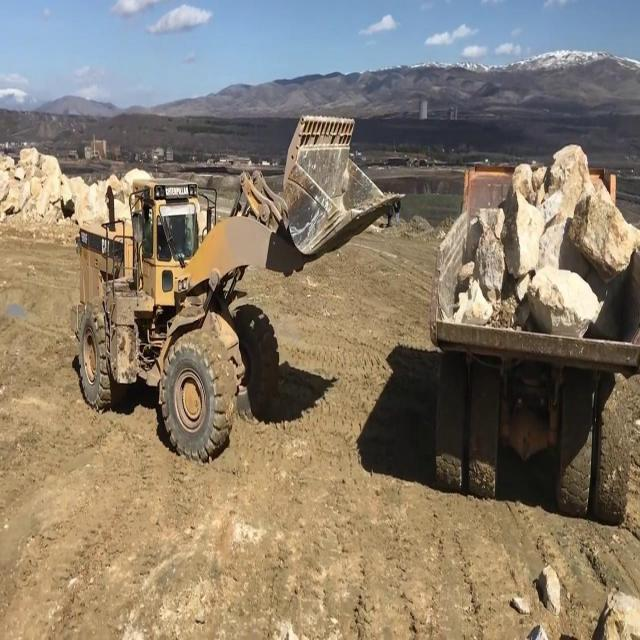Dump Truck: (425, 160, 639, 525)
Loader: (69, 111, 407, 469)
